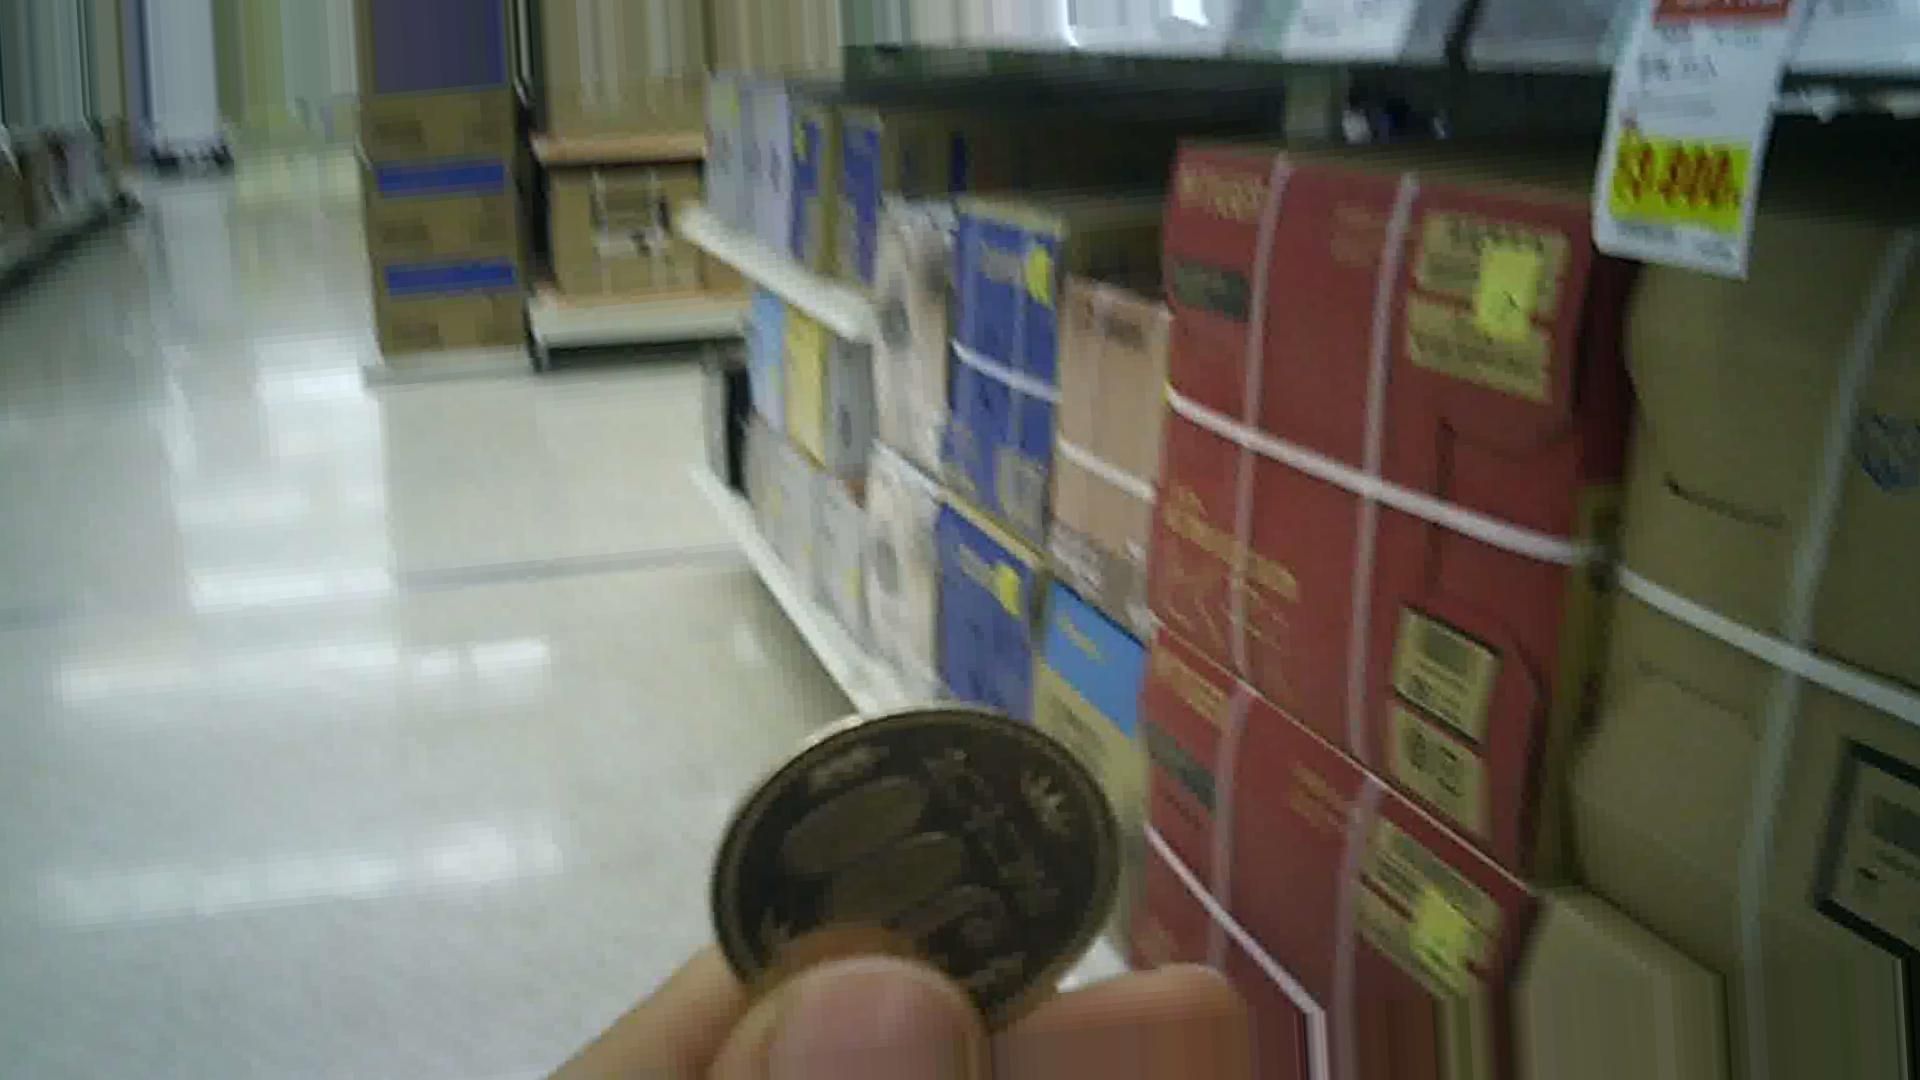500 Yen: (690, 716, 1145, 1019)
